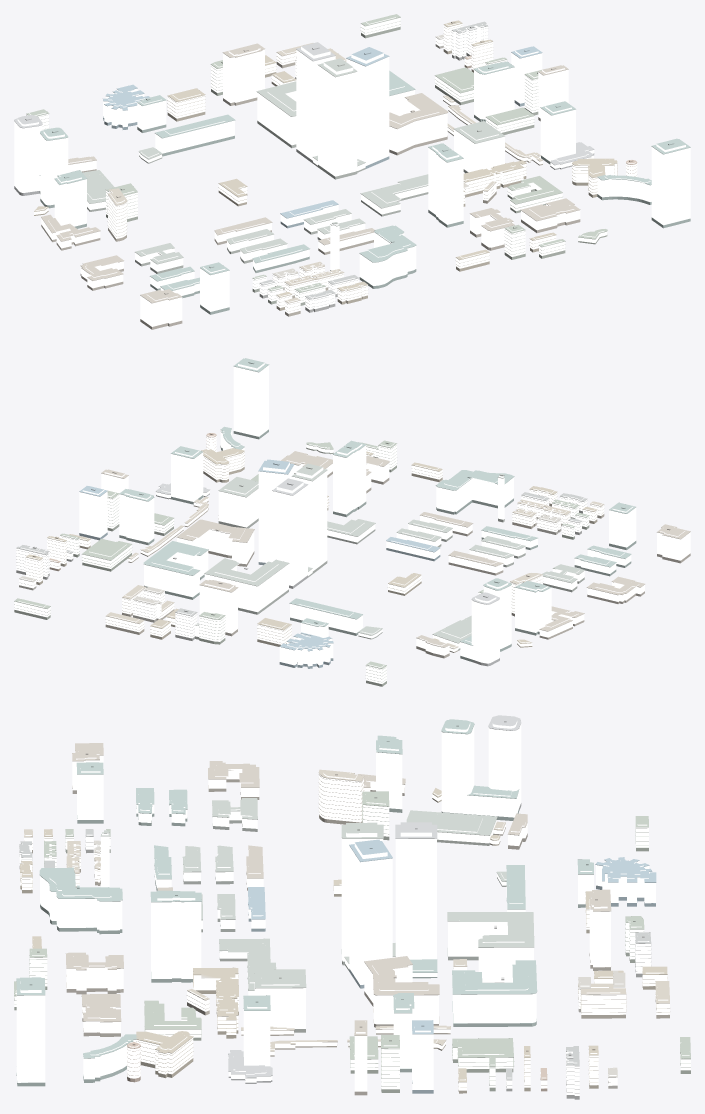
File: buildings--9_1-fine.glb
The picture shows the model from 3 angles, top to bottom: view 1: azimuth 30°, elevation 25°; view 2: azimuth 150°, elevation 25°; view 3: azimuth 270°, elevation 25°; orthographic projection. The views are drawn at different scales.
Visible parts, largest first — view 1: block_-9_1_office, block_-9_1_roof, block_-9_1_residential, block_-9_1_darkglass, block_-9_1_steel, block_-9_1_concrete; view 2: block_-9_1_office, block_-9_1_roof, block_-9_1_residential, block_-9_1_darkglass, block_-9_1_steel, block_-9_1_concrete; view 3: block_-9_1_office, block_-9_1_roof, block_-9_1_residential, block_-9_1_darkglass, block_-9_1_concrete, block_-9_1_steel.
Part boxes in pixels (x1,y1,x2,y2): block_-9_1_office: (14, 46, 690, 326); block_-9_1_roof: (14, 14, 690, 325); block_-9_1_residential: (26, 17, 637, 313); block_-9_1_darkglass: (14, 26, 690, 329); block_-9_1_steel: (14, 49, 690, 303); block_-9_1_concrete: (26, 17, 636, 310); block_-9_1_office: (79, 363, 690, 666); block_-9_1_roof: (14, 358, 690, 679); block_-9_1_residential: (14, 435, 604, 683); block_-9_1_darkglass: (14, 429, 690, 686); block_-9_1_steel: (79, 365, 690, 651); block_-9_1_concrete: (14, 435, 603, 681); block_-9_1_office: (16, 721, 655, 1091); block_-9_1_roof: (14, 715, 690, 1089); block_-9_1_residential: (14, 773, 690, 1095); block_-9_1_darkglass: (14, 779, 690, 1099); block_-9_1_concrete: (14, 773, 690, 1093); block_-9_1_steel: (17, 724, 656, 1078).
Bounding box in the file's own units: 679 × 128 × 595.
